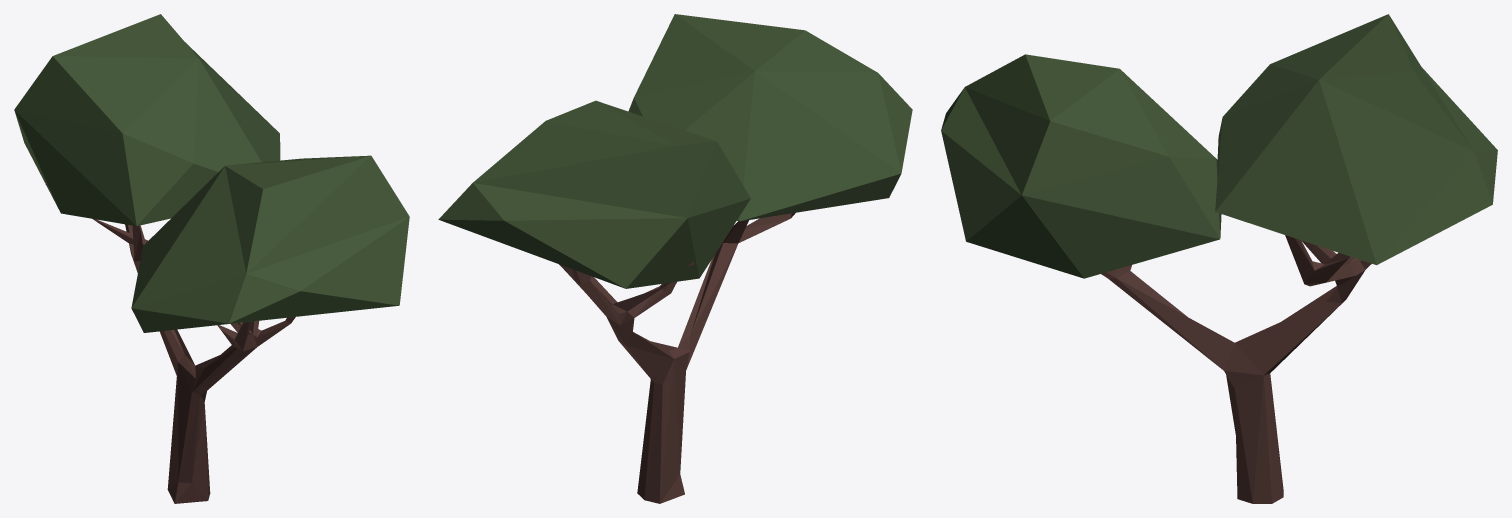
The model's file is CommonTree_1_lod.glb.
3 views of the same model, side by side, from view 1: azimuth 30°, elevation 25°; view 2: azimuth 150°, elevation 25°; view 3: azimuth 270°, elevation 25° (orthographic). The views are drawn at different scales.
Parts seen in each view (by area): view 1: CommonTree_1; view 2: CommonTree_1; view 3: CommonTree_1.
Boxes of the visible parts, x1,y1,x2,y2 form: CommonTree_1: [14, 14, 409, 503]; CommonTree_1: [438, 14, 912, 503]; CommonTree_1: [941, 14, 1497, 503].
Bounding box in the file's own units: 1.81 × 2.44 × 2.77.
